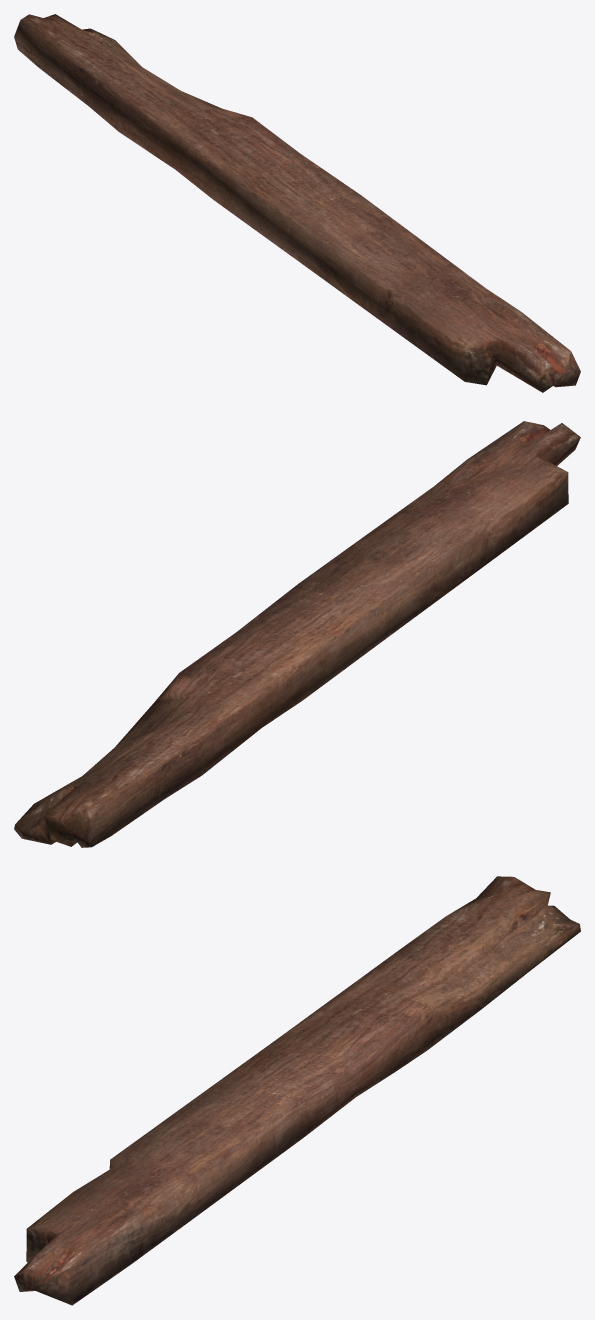
Rendered from Wooden_Plank_004.fbx.
3 renders of one model, top to bottom at view 1: azimuth 30°, elevation 25°; view 2: azimuth 150°, elevation 25°; view 3: azimuth 330°, elevation 25°, orthographic. The views are drawn at different scales.
Visible parts, largest first — view 1: ricaS_LOD0_TIER2_004; view 2: ricaS_LOD0_TIER2_004; view 3: ricaS_LOD0_TIER2_004.
Boxes of the visible parts, box(x1,y1,x2,y2) form: ricaS_LOD0_TIER2_004: box(14, 14, 580, 392); ricaS_LOD0_TIER2_004: box(14, 421, 580, 847); ricaS_LOD0_TIER2_004: box(14, 876, 580, 1305).
Bounding box in the file's own units: 0.0621 × 0.0315 × 0.6521.
